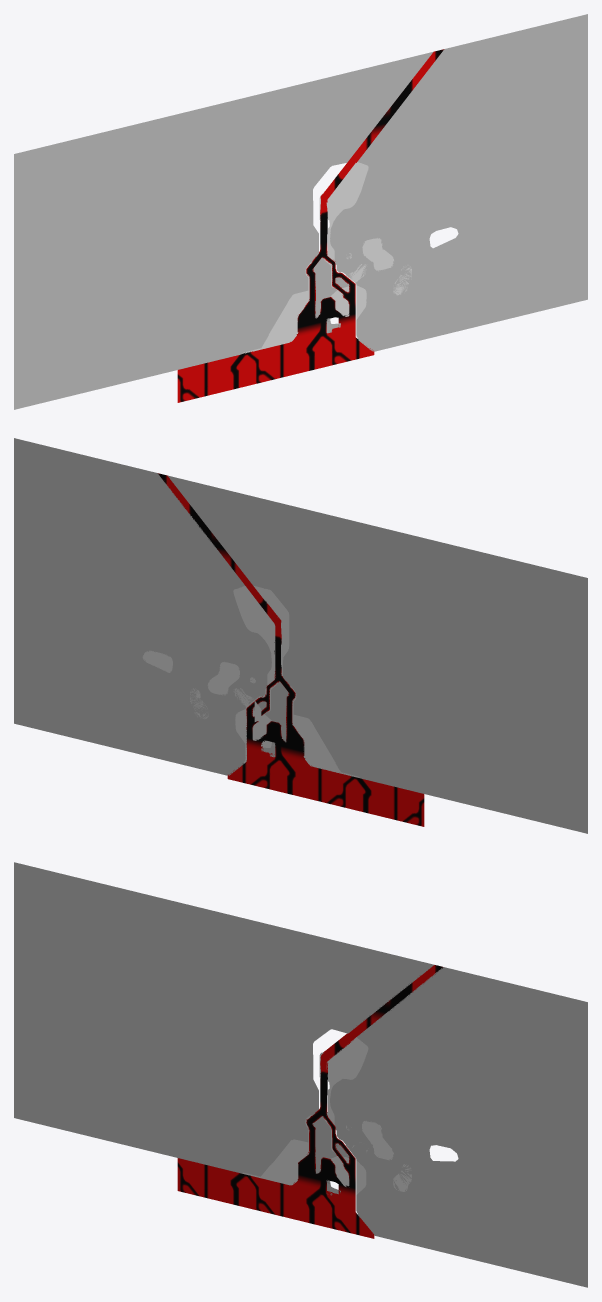
File: Tokyo.glb
3 renders of one model, top to bottom at view 1: azimuth 30°, elevation 25°; view 2: azimuth 150°, elevation 25°; view 3: azimuth 330°, elevation 25°, orthographic.
Visible parts, largest first — view 1: Tokyo_Land, Tokyo_water, Tokyo_Grass; view 2: Tokyo_Land, Tokyo_water, Tokyo_Grass, Tokyo_Beach; view 3: Tokyo_Land, Tokyo_water, Tokyo_Grass.
Boxes of the visible parts, x1,y1,x2,y2 form: Tokyo_Land: (14,14,587,409); Tokyo_water: (177,49,444,402); Tokyo_Grass: (261,162,393,347); Tokyo_Land: (14,438,587,833); Tokyo_water: (158,473,424,826); Tokyo_Grass: (142,586,340,771); Tokyo_Beach: (243,618,359,777); Tokyo_Land: (14,862,587,1287); Tokyo_water: (177,965,442,1238); Tokyo_Grass: (261,1037,393,1194).
Bounding box in the file's own units: 404 × 194 × 19.06.
Materials: 4 (1 with a texture image).
